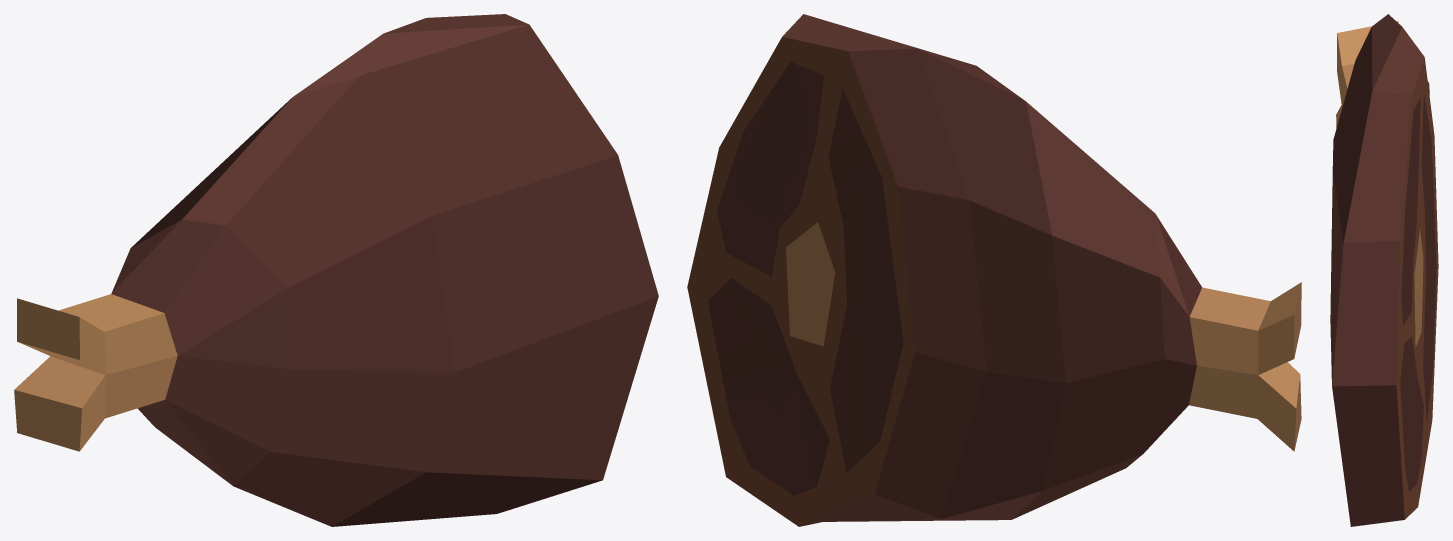
The model's file is icon_ham.fbx.
3 renders of one model, left to right at view 1: azimuth 30°, elevation 25°; view 2: azimuth 150°, elevation 25°; view 3: azimuth 270°, elevation 25°, orthographic. The views are drawn at different scales.
Parts seen in each view (by area): view 1: icon_ham; view 2: icon_ham; view 3: icon_ham.
Boxes of the visible parts, x1,y1,x2,y2 form: icon_ham: (14,14,658,526); icon_ham: (687,14,1301,526); icon_ham: (1330,14,1438,526).
Bounding box in the file's own units: 40.29 × 31.61 × 7.03.
